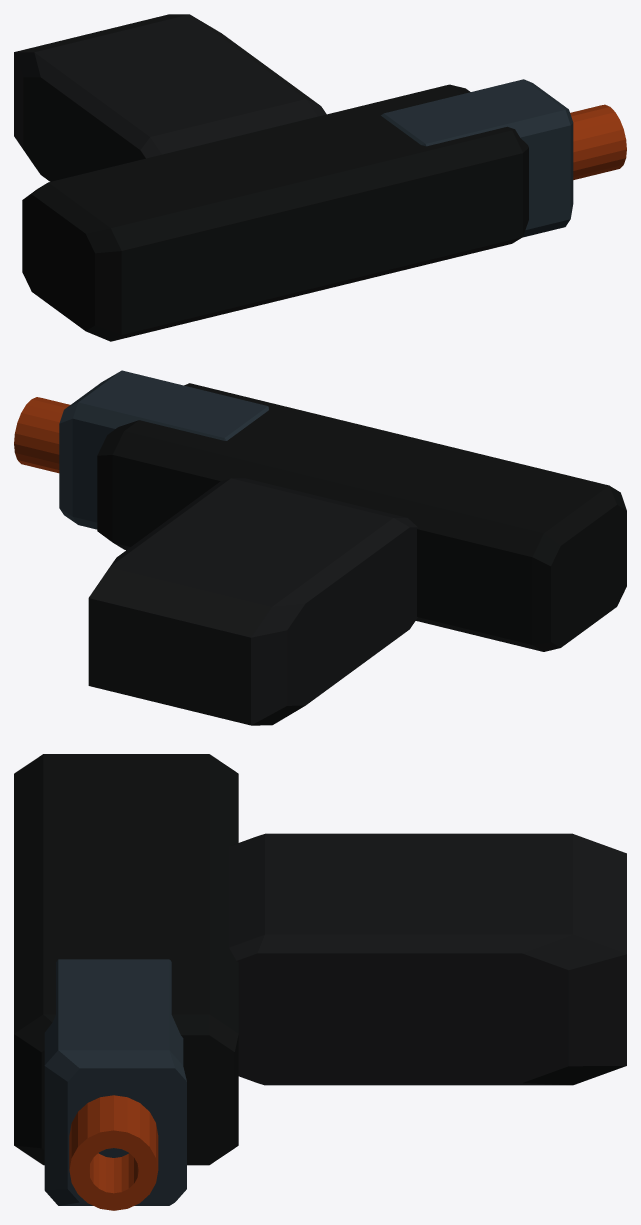
File: stun_test_1995_lod0.obj
3 renders of one model, top to bottom at view 1: azimuth 30°, elevation 25°; view 2: azimuth 150°, elevation 25°; view 3: azimuth 270°, elevation 25°, orthographic. The views are drawn at different scales.
Parts seen in each view (by area): view 1: body, grip, condenser_housing, test_muzzle; view 2: body, grip, condenser_housing, test_muzzle; view 3: grip, body, condenser_housing, test_muzzle.
Boxes of the visible parts, x1,y1,x2,y2 form: body: (22,84,528,341); grip: (14,14,326,181); condenser_housing: (381,79,573,237); test_muzzle: (570,104,626,179); body: (97,383,626,651); grip: (88,478,417,725); condenser_housing: (59,370,268,529); test_muzzle: (14,397,69,473); grip: (229,833,626,1085); body: (14,754,238,1165); condenser_housing: (44,959,186,1205); test_muzzle: (69,1095,158,1210).
Bounding box in the file's own units: 30 × 6.2 × 22.1.
